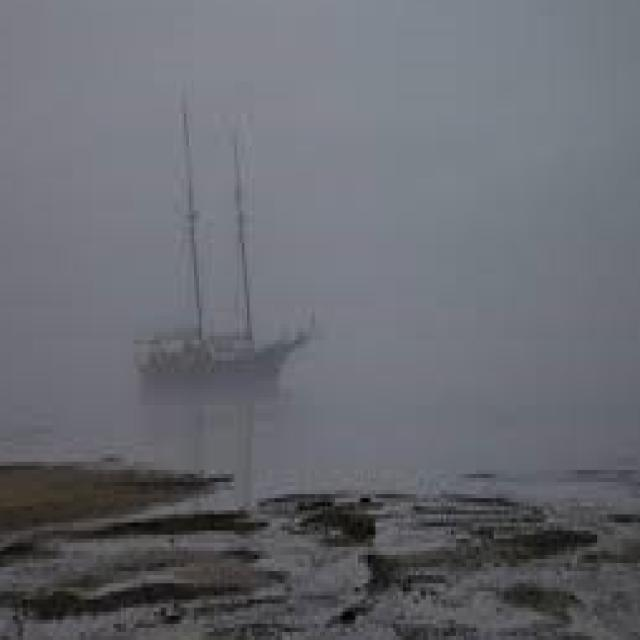fishing boat: (108, 96, 308, 387)
